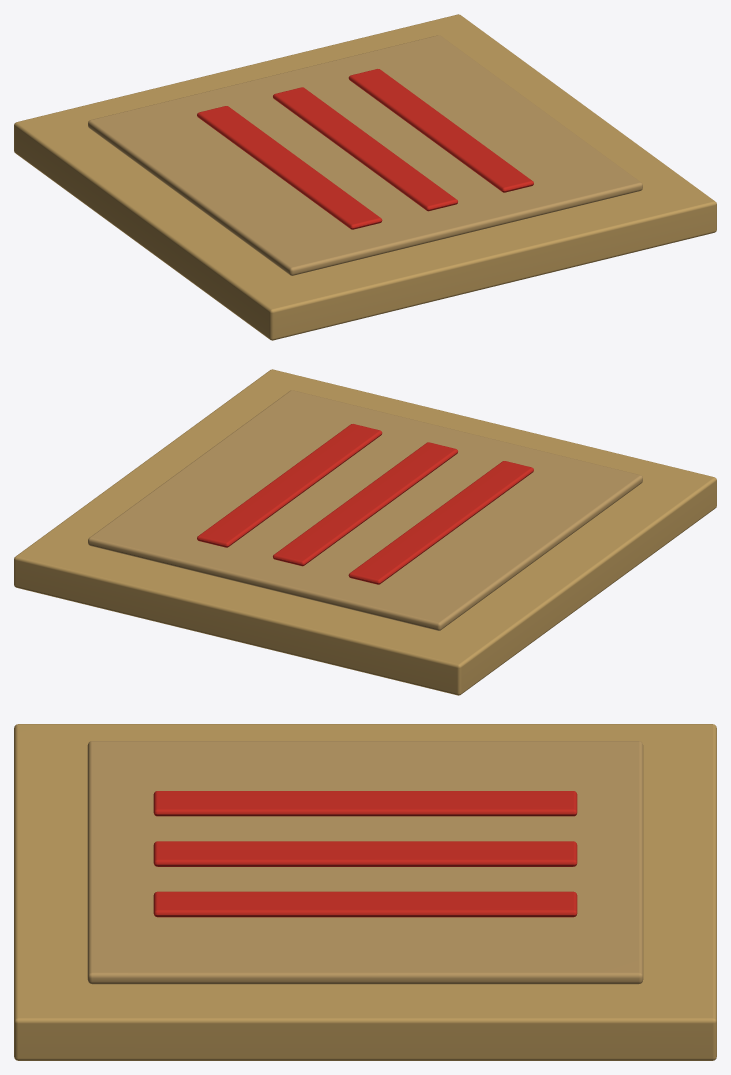
3 views of the same model, one above another, from view 1: azimuth 30°, elevation 25°; view 2: azimuth 150°, elevation 25°; view 3: azimuth 270°, elevation 25° (orthographic). The views are drawn at different scales.
Parts seen in each view (by area): view 1: Foundation slab, Landing pad inset, Landing pad runway stripe, Landing pad runway stripe.002, Landing pad runway stripe.001; view 2: Foundation slab, Landing pad inset, Landing pad runway stripe, Landing pad runway stripe.002, Landing pad runway stripe.001; view 3: Landing pad inset, Foundation slab, Landing pad runway stripe.002, Landing pad runway stripe, Landing pad runway stripe.001.
Boxes of the visible parts, <box> form: Foundation slab: <box>14,14,716,340</box>; Landing pad inset: <box>88,35,642,275</box>; Landing pad runway stripe: <box>197,106,382,229</box>; Landing pad runway stripe.002: <box>348,69,533,192</box>; Landing pad runway stripe.001: <box>273,87,457,211</box>; Foundation slab: <box>14,369,716,695</box>; Landing pad inset: <box>88,390,642,630</box>; Landing pad runway stripe: <box>348,461,533,584</box>; Landing pad runway stripe.002: <box>197,424,382,547</box>; Landing pad runway stripe.001: <box>273,442,457,566</box>; Landing pad inset: <box>87,741,643,984</box>; Foundation slab: <box>14,724,716,1060</box>; Landing pad runway stripe.002: <box>153,891,577,917</box>; Landing pad runway stripe: <box>153,791,577,816</box>; Landing pad runway stripe.001: <box>153,841,577,866</box>.
Bounding box in the file's own units: 2.24 × 0.2225 × 2.24.
